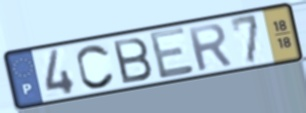4: (42, 47, 76, 97)
7: (228, 11, 260, 67)
B: (110, 35, 155, 86)
C: (75, 43, 117, 91)
E: (147, 25, 198, 82)
R: (185, 21, 235, 73)
